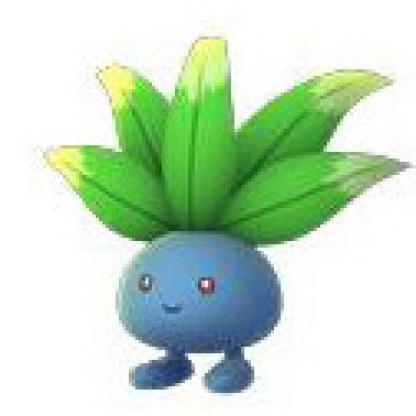Oddish: (48, 33, 402, 386)
